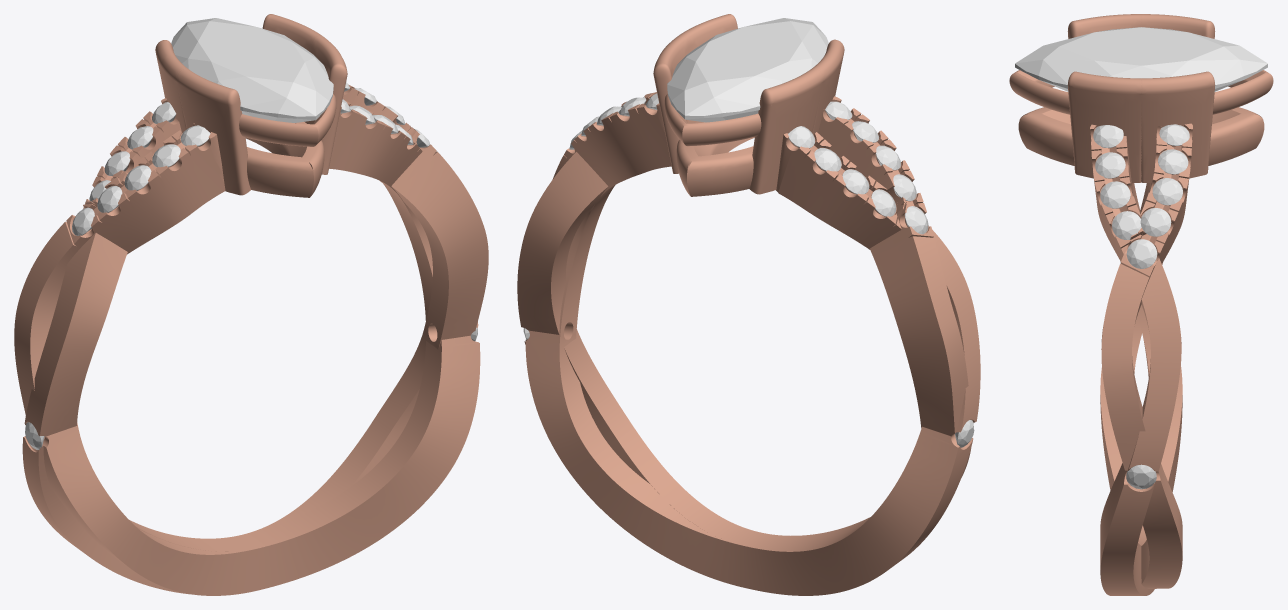
Rendered from diamond-marquise-rosegold-halfmoonbezel-twist-sidestones.glb.
3 renders of one model, left to right at view 1: azimuth 30°, elevation 25°; view 2: azimuth 150°, elevation 25°; view 3: azimuth 270°, elevation 25°, orthographic.
Visible parts, largest first — view 1: metal.003, stone; view 2: metal.003, stone; view 3: metal.003, stone, Twist diamonds.015, Twist diamonds.016, Twist diamonds.017, Twist diamonds.012, Twist diamonds.011, Twist diamonds.013, Twist diamonds.018, Twist diamonds.010, Twist diamonds.014, Twist diamonds.019.
Boxes of the visible parts, x1,y1,x2,y2 form: metal.003: [14, 14, 488, 595]; stone: [171, 18, 333, 122]; metal.003: [517, 14, 980, 595]; stone: [667, 18, 828, 122]; metal.003: [1009, 14, 1273, 595]; stone: [1015, 27, 1267, 91]; Twist diamonds.015: [1126, 239, 1157, 268]; Twist diamonds.016: [1140, 208, 1171, 236]; Twist diamonds.017: [1152, 178, 1182, 205]; Twist diamonds.012: [1100, 181, 1130, 208]; Twist diamonds.011: [1112, 211, 1141, 239]; Twist diamonds.013: [1095, 152, 1125, 178]; Twist diamonds.018: [1158, 149, 1188, 174]; Twist diamonds.010: [1126, 464, 1156, 489]; Twist diamonds.014: [1093, 125, 1123, 148]; Twist diamonds.019: [1159, 124, 1189, 145].
Bounding box in the file's own units: 19.97 × 22.73 × 10.4.
